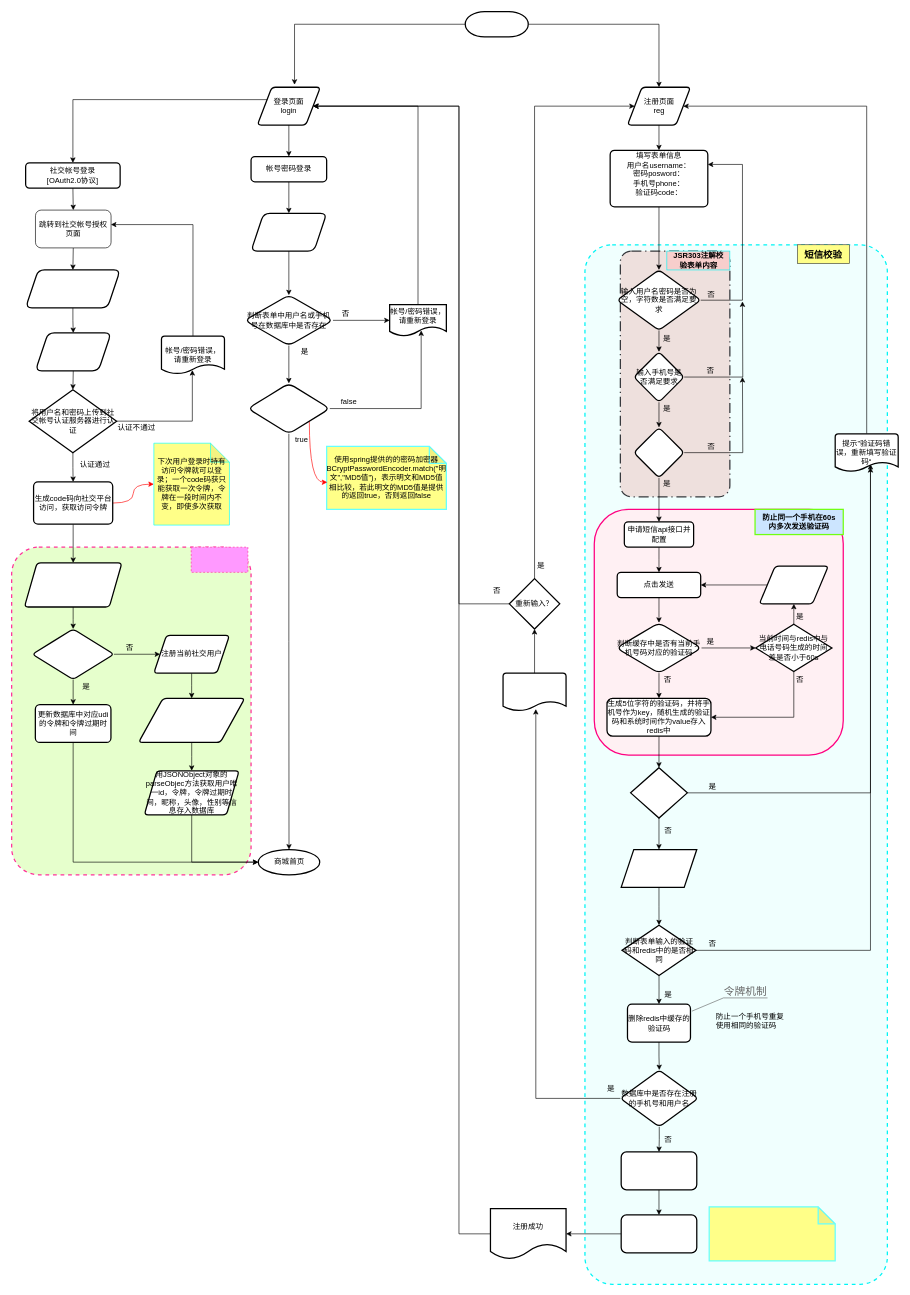
Some shapes in this 910 by 1295 pixel diagram are drawn without their labels. The centre of each missing label's shape, as x and y in pixels:
60s后重新发送: the point at 793,584
使用spring的BCryptPasswordEncoder.encode("明文")，表示将明文盐值加密，返回MD5字符串: the point at 772,1233
判断手机获取的验证码在redis中是否为空: the point at 659,792
向用户申请请求认证: the point at 72,288
在数据库中增加社交用户唯一id：uid，访问令牌token和令牌生存周期expires字段: the point at 72,584
将用户注册的表单信息（用户名，手机号）存入数据库: the point at 658,1170
将表单提交的密码与数数据库中存储的MD5值用match方法判断: the point at 288,408
将表单提交的密码用MD5盐值加密存入数据库: the point at 658,1233
持令牌访问社交平台服务器 获取社交帐号开放保护信息，返回json数据: the point at 191,720
根据uid判断当前社交用户在数据库中是否为空；即表示是否已登录过系统: the point at 72,654
点击登录按钮获取表单中的帐号和密码: the point at 288,231
用户名或手机号已被注册: the point at 534,691
用户授权 输入社交帐号和密码: the point at 73,351
社交帐号登录/ 注册功能: the point at 219,559
获取redis缓存中的key：value key是手机号 value是验证码: the point at 658,868
认证服务: the point at 496,24
输入验证码是否为空: the point at 658,452
